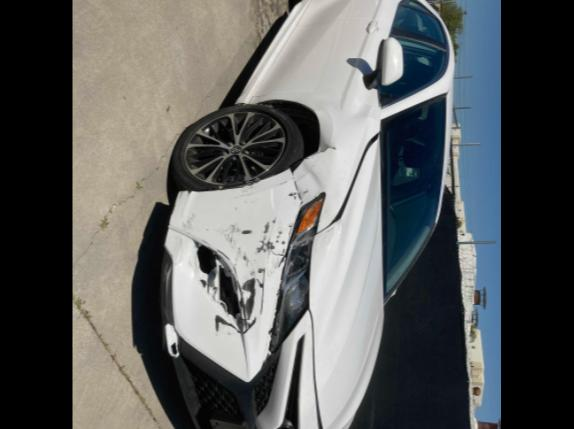Broken part: (158, 168, 308, 382), (314, 126, 380, 238), (312, 344, 325, 429), (308, 144, 338, 158)
Cracked: (268, 192, 325, 352)
Dent: (294, 90, 378, 202), (311, 220, 344, 292)
Missing part: (218, 270, 236, 318), (198, 246, 214, 272), (214, 420, 245, 429)
Paint chip: (232, 270, 256, 332), (256, 266, 266, 314), (254, 236, 274, 256), (224, 223, 240, 246), (272, 248, 286, 268), (182, 212, 196, 230), (216, 248, 230, 260), (274, 228, 284, 244), (234, 192, 256, 198), (234, 246, 242, 262), (262, 220, 270, 234), (242, 184, 256, 192), (243, 251, 250, 266), (288, 192, 298, 200), (242, 228, 254, 234), (276, 180, 288, 186), (302, 188, 310, 196), (202, 238, 210, 246), (268, 326, 274, 336), (232, 266, 238, 274), (268, 266, 272, 278), (186, 190, 192, 198), (180, 190, 184, 200), (250, 270, 256, 276), (252, 198, 256, 204), (243, 200, 248, 204), (272, 220, 276, 224), (288, 224, 292, 228), (282, 240, 286, 244), (234, 206, 238, 210), (270, 270, 274, 274), (206, 228, 208, 230)
Scratch: (314, 220, 342, 256)
